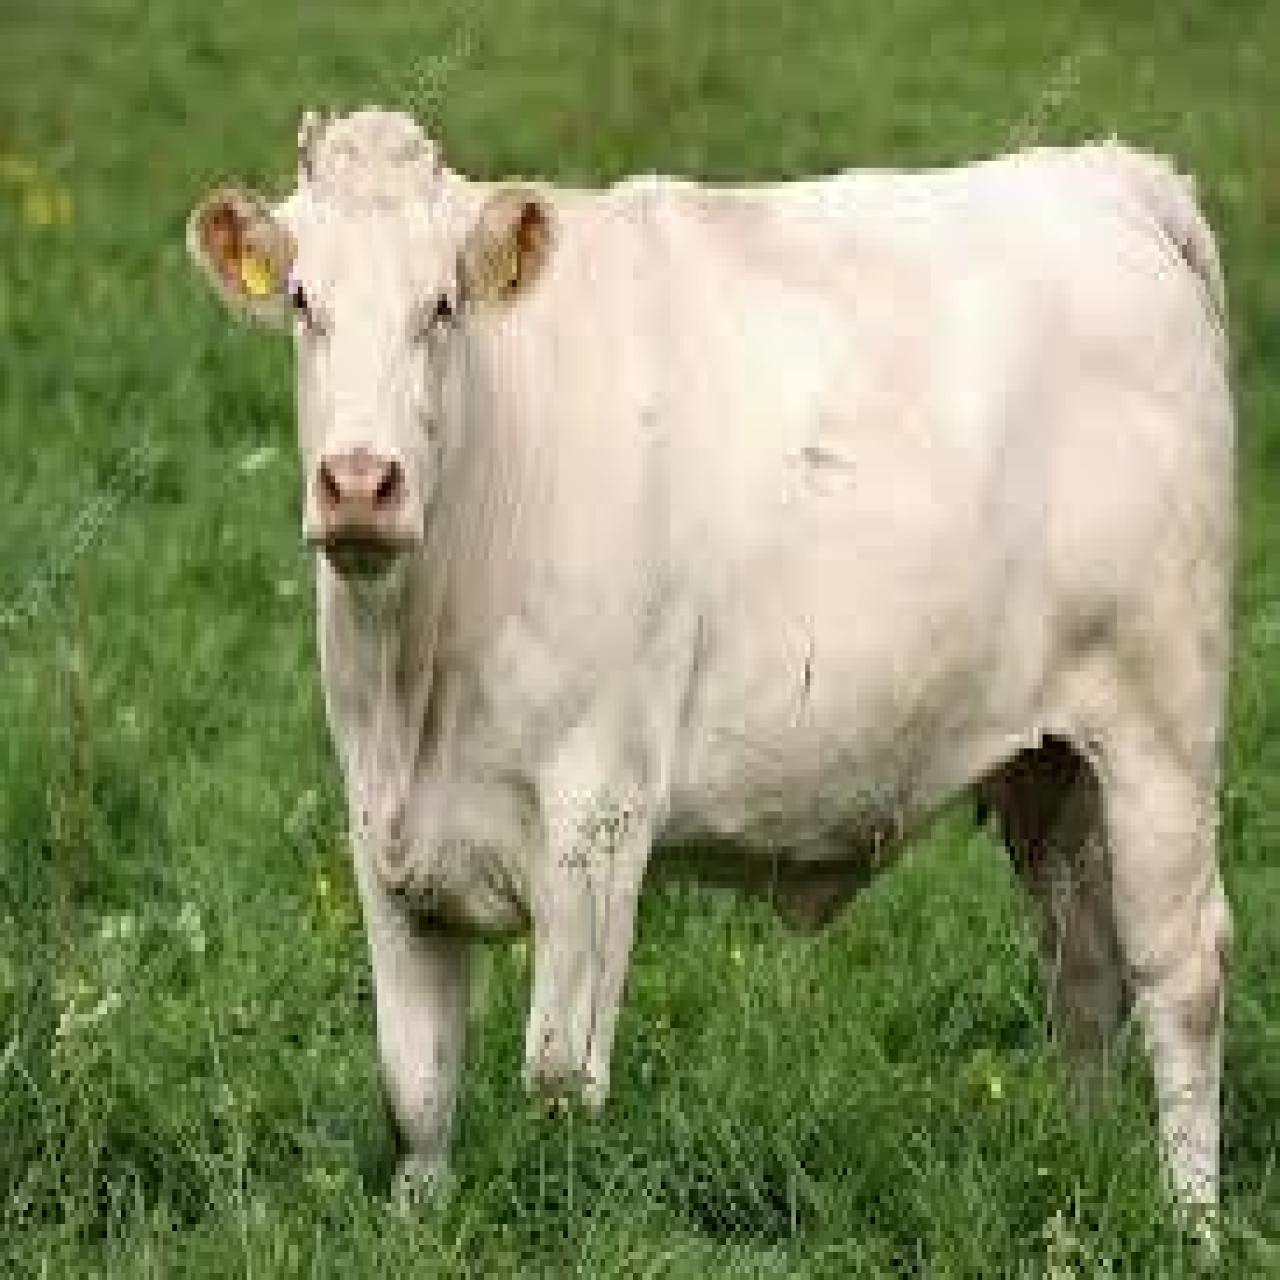cow: (196, 105, 1238, 1224)
